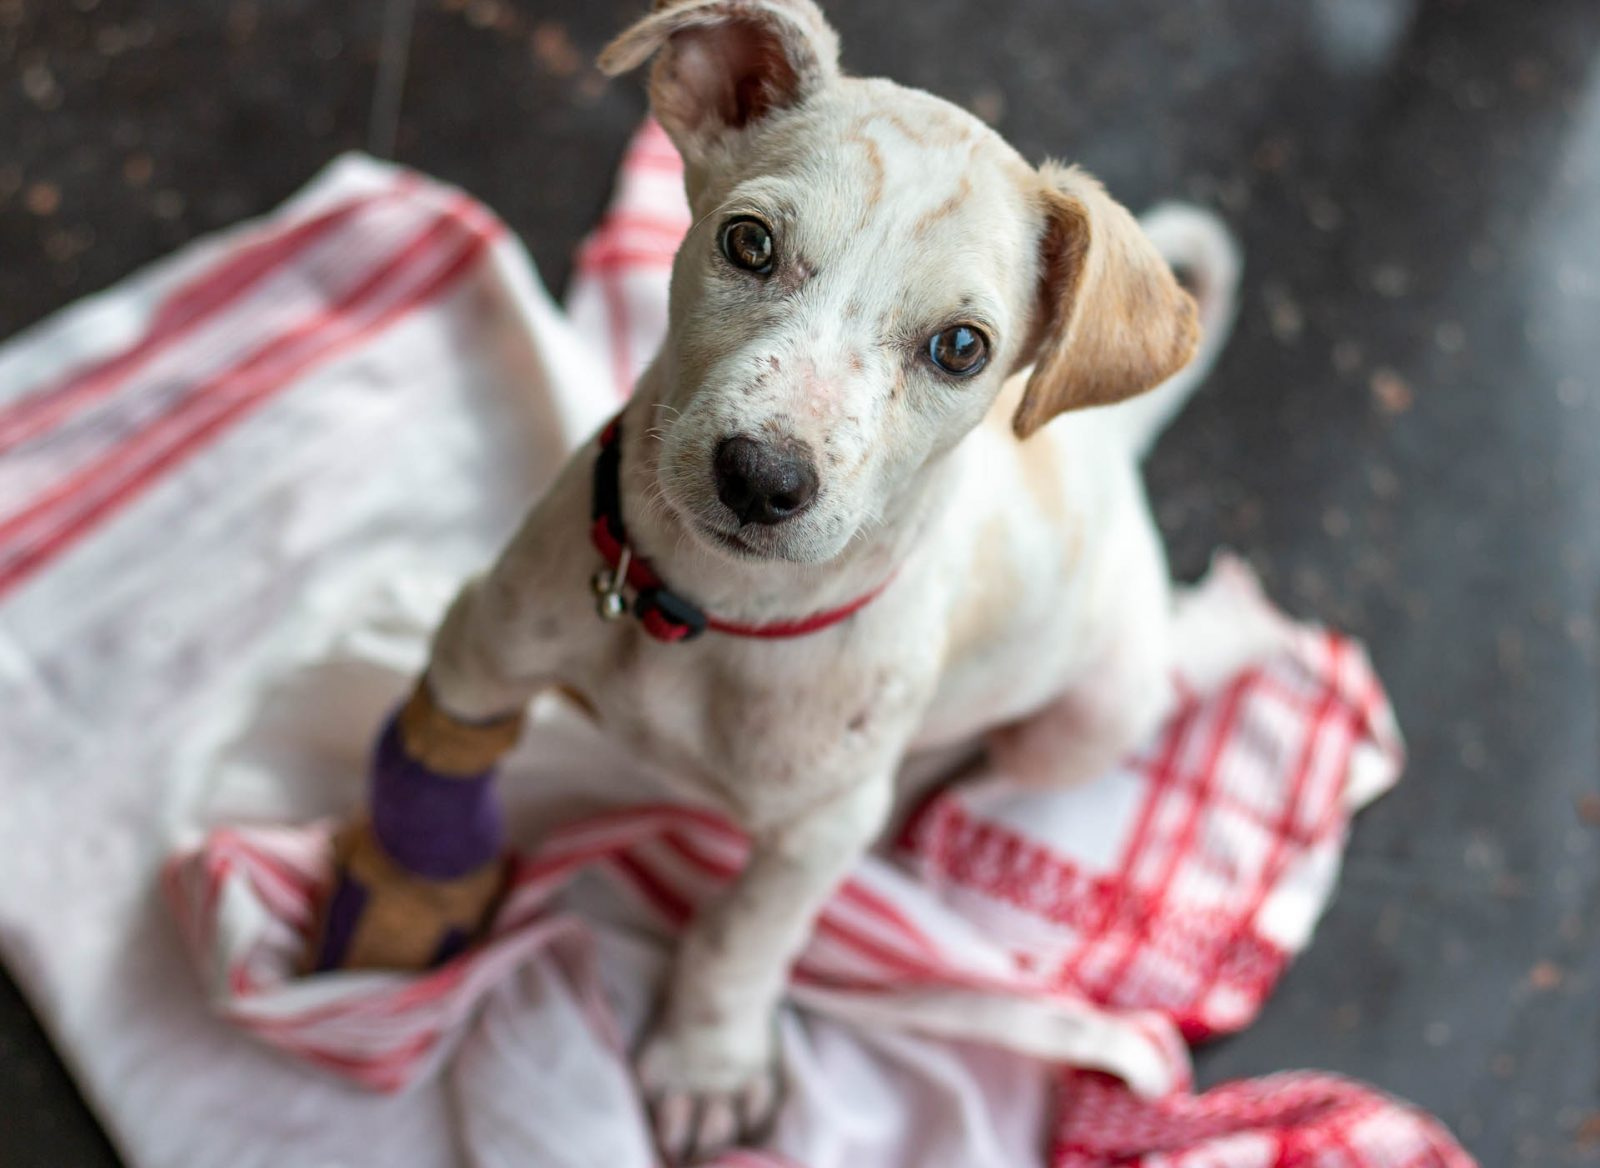Dog: (348, 19, 1337, 1035)
